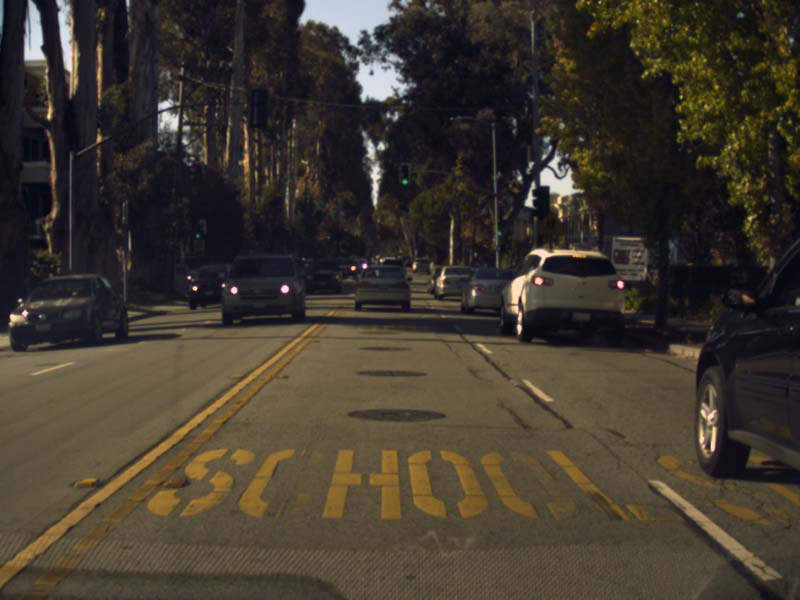Green: (401, 165, 408, 185), (194, 224, 201, 240), (496, 223, 502, 238)
